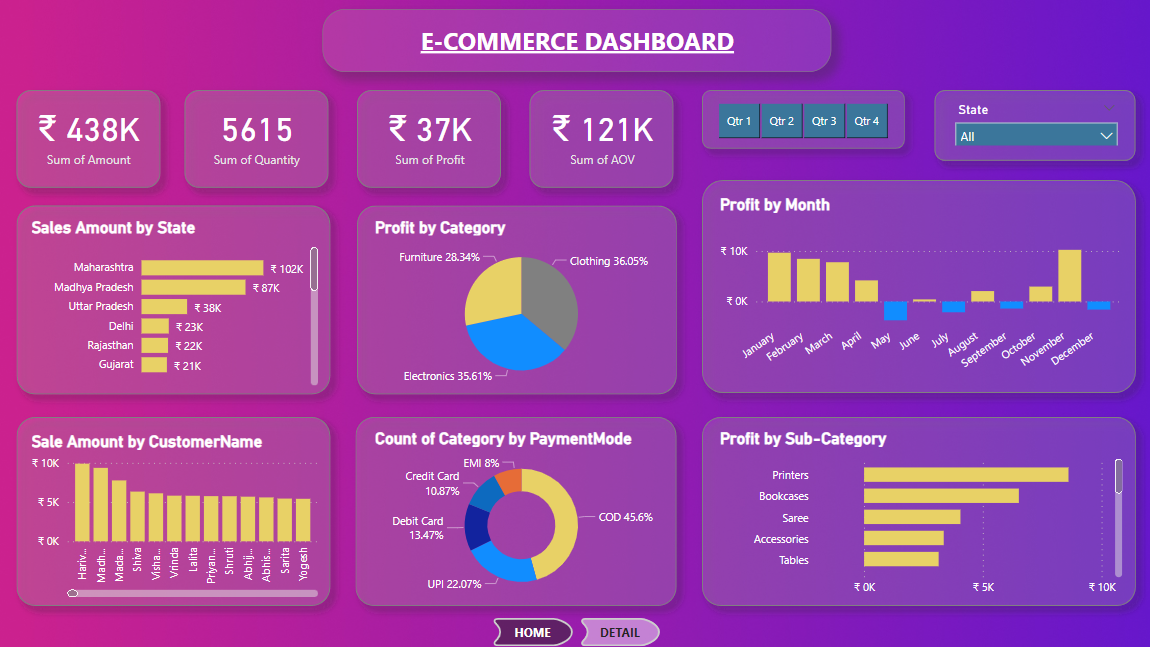

What the dashboard file says about the page in this screenshot:
{"tool":"powerbi","page":{"name":"HOME","canvas":[1280,720],"ordinal":0},"visuals":[{"type":"shape","box":[381.7,85,190,138.3],"z":0},{"type":"shape","box":[3.3,213.3,378.3,240],"z":1000},{"type":"shape","box":[573.3,85,190,138.3],"z":2000},{"type":"shape","box":[190,85,190,138.3],"z":3000},{"type":"textbox","box":[358.3,10,565,70],"z":4000},{"type":"shape","box":[3.3,85,190,138.3],"z":5000},{"type":"card","fields":{"Values":["Sum(Orders Details.Amount)"]},"box":[30.2,103.3,136.7,92.2],"z":6000},{"type":"shape","box":[765,85,255,95],"z":7000},{"type":"card","fields":{"Values":["Sum(Orders Details.Quantity)"]},"box":[219.3,103.3,130.3,92.2],"z":8000},{"type":"card","fields":{"Values":["Sum(Orders Details.Profit)"]},"box":[411.7,103.3,131.9,92.2],"z":9000},{"type":"card","fields":{"Values":["Sum(Orders Details.AOV)"]},"box":[600.8,103.3,138.3,92.2],"z":10000},{"type":"slicer","fields":{"Values":["Orders.Date_Quarter"]},"box":[775,110,235,48.3],"z":11000},{"type":"shape","box":[1023.3,85,253.3,108.3],"z":12000},{"type":"slicer","fields":{"Values":["Orders.State"]},"box":[1051.7,108.3,200,53.3],"z":13000},{"type":"clusteredBarChart","title":"Sales Amount by State","fields":{"Category":["Orders.State"],"Y":["Sum(Orders Details.Amount)"]},"box":[30,241.7,328.3,191.7],"z":14000},{"type":"shape","box":[3.3,448.3,378.3,240],"z":15000},{"type":"clusteredColumnChart","title":"Sale Amount by CustomerName","fields":{"Category":["Orders.CustomerName"],"Y":["Sum(Orders Details.Amount)"]},"box":[30,480,328.3,188.3],"z":16000},{"type":"shape","box":[381.7,213.3,385,240],"z":17000},{"type":"pieChart","title":"Profit by Category","fields":{"Category":["Orders Details.Category"],"Y":["Sum(Orders Details.Profit)"]},"box":[411.7,241.7,335,193.3],"z":18000},{"type":"shape","box":[380,448.3,386.7,240],"z":19000},{"type":"donutChart","fields":{"Category":["Orders Details.PaymentMode"],"Y":["CountNonNull(Orders Details.Category)"]},"box":[411.7,476.7,335,193.3],"z":20000},{"type":"shape","box":[765,185,511.7,266.7],"z":21000},{"type":"shape","box":[765,448.3,511.7,240],"z":22000},{"type":"columnChart","title":"Profit by Month","fields":{"Category":["Orders.Order Date.Variation.Date Hierarchy.Month"],"Y":["Sum(Orders Details.Profit)"]},"box":[795,216.7,456.7,210],"z":23000},{"type":"clusteredBarChart","title":"Profit by Sub-Category","fields":{"Category":["Orders Details.Sub-Category"],"Y":["Sum(Orders Details.Profit)"]},"box":[795,476.7,456.7,193.3],"z":24000},{"type":"pageNavigator","box":[543.3,686.7,195,31.7],"z":25000}]}

Visuals, with their boxes in screenshot pixels (x1, y1, x2, y2), scaled from the page's 1280x720 canvas onto the 1150x647 screenshot:
shape: x1=343 y1=76 x2=514 y2=201
shape: x1=3 y1=192 x2=343 y2=407
shape: x1=515 y1=76 x2=686 y2=201
shape: x1=171 y1=76 x2=341 y2=201
textbox: x1=322 y1=9 x2=830 y2=72
shape: x1=3 y1=76 x2=174 y2=201
card - Sum(Orders Details.Amount): x1=27 y1=93 x2=150 y2=176
shape: x1=687 y1=76 x2=916 y2=162
card - Sum(Orders Details.Quantity): x1=197 y1=93 x2=314 y2=176
card - Sum(Orders Details.Profit): x1=370 y1=93 x2=488 y2=176
card - Sum(Orders Details.AOV): x1=540 y1=93 x2=664 y2=176
slicer - Orders.Date_Quarter: x1=696 y1=99 x2=907 y2=142
shape: x1=919 y1=76 x2=1147 y2=174
slicer - Orders.State: x1=945 y1=97 x2=1125 y2=145
"Sales Amount by State" clusteredBarChart: x1=27 y1=217 x2=322 y2=389
shape: x1=3 y1=403 x2=343 y2=619
"Sale Amount by CustomerName" clusteredColumnChart: x1=27 y1=431 x2=322 y2=601
shape: x1=343 y1=192 x2=689 y2=407
"Profit by Category" pieChart: x1=370 y1=217 x2=671 y2=391
shape: x1=341 y1=403 x2=689 y2=619
donutChart - Orders Details.PaymentMode x CountNonNull(Orders Details.Category): x1=370 y1=428 x2=671 y2=602
shape: x1=687 y1=166 x2=1147 y2=406
shape: x1=687 y1=403 x2=1147 y2=619
"Profit by Month" columnChart: x1=714 y1=195 x2=1125 y2=383
"Profit by Sub-Category" clusteredBarChart: x1=714 y1=428 x2=1125 y2=602
pageNavigator: x1=488 y1=617 x2=663 y2=646
